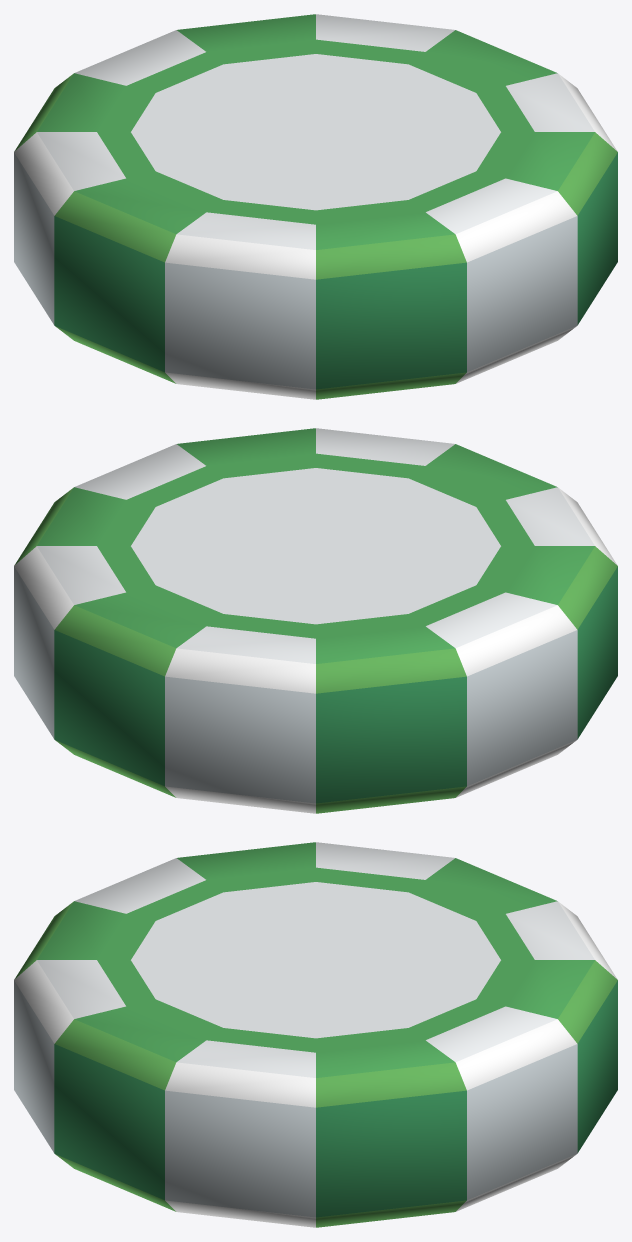
The model's file is Chips_G.fbx.
3 views of the same model, one above another, from view 1: azimuth 30°, elevation 25°; view 2: azimuth 150°, elevation 25°; view 3: azimuth 270°, elevation 25° (orthographic).
Parts seen in each view (by area): view 1: Chips_G; view 2: Chips_G; view 3: Chips_G.
Part boxes in pixels (x1=…): Chips_G: x1=14, y1=14, x2=617, y2=399; Chips_G: x1=14, y1=428, x2=617, y2=813; Chips_G: x1=14, y1=842, x2=617, y2=1227.
Bounding box in the file's own units: 0.7047 × 0.7047 × 0.1927.
